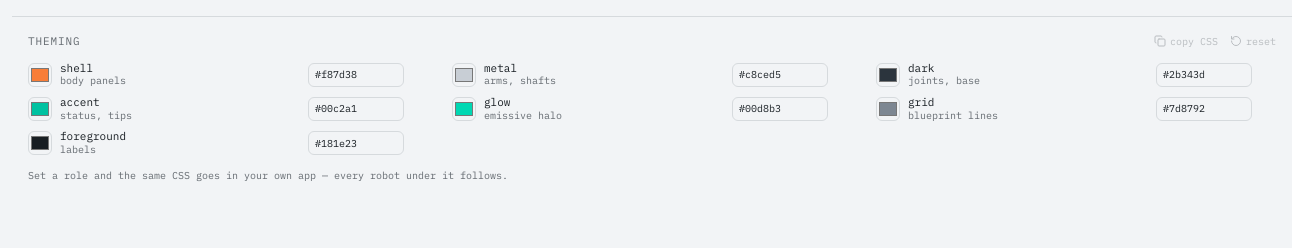
Scenario: the theming strip › takes any CSS colour from the text field, and hands back the CSS
This screenshot has width=1292, height=248.
Step 1. Replace the text in the field named "accent value" with "oklch(0.8 0.2 120)" → (356, 109), box x1=308 y1=97 x2=404 y2=121
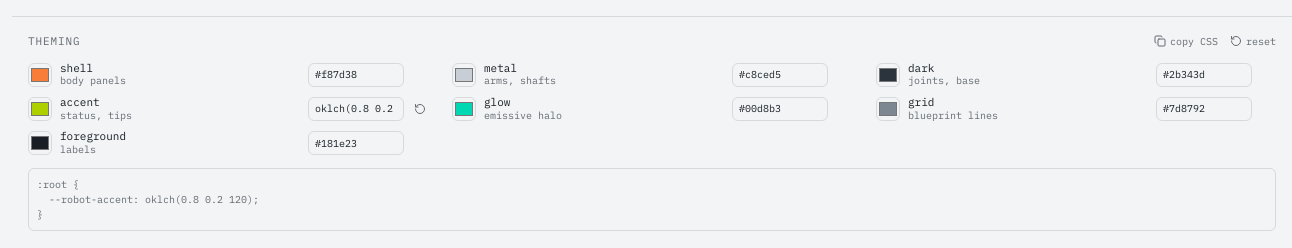
Expected: the text ":root { --robot-accent: oklch(0.8 0.2 120); }" is shown, x1=28 y1=168 x2=1276 y2=231
